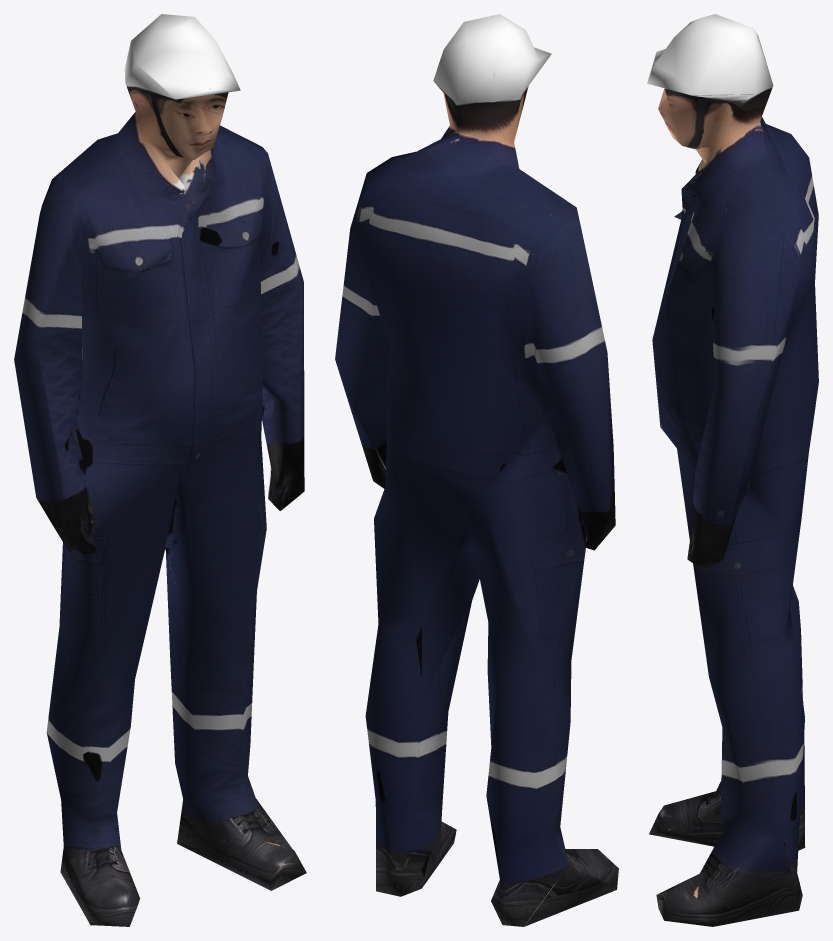
File: Meshy_AI__0618090425_texture_optimized.glb
3 renders of one model, left to right at view 1: azimuth 30°, elevation 25°; view 2: azimuth 150°, elevation 25°; view 3: azimuth 270°, elevation 25°, orthographic.
Visible parts, largest first — view 1: Mesh1.0; view 2: Mesh1.0; view 3: Mesh1.0.
Part boxes in pixels (<box>): Mesh1.0: <box>14,14,306,926</box>; Mesh1.0: <box>335,14,618,926</box>; Mesh1.0: <box>647,14,818,926</box>.
Bounding box in the file's own units: 0.6605 × 2 × 0.3622.
Materials: 1 (1 with a texture image).
